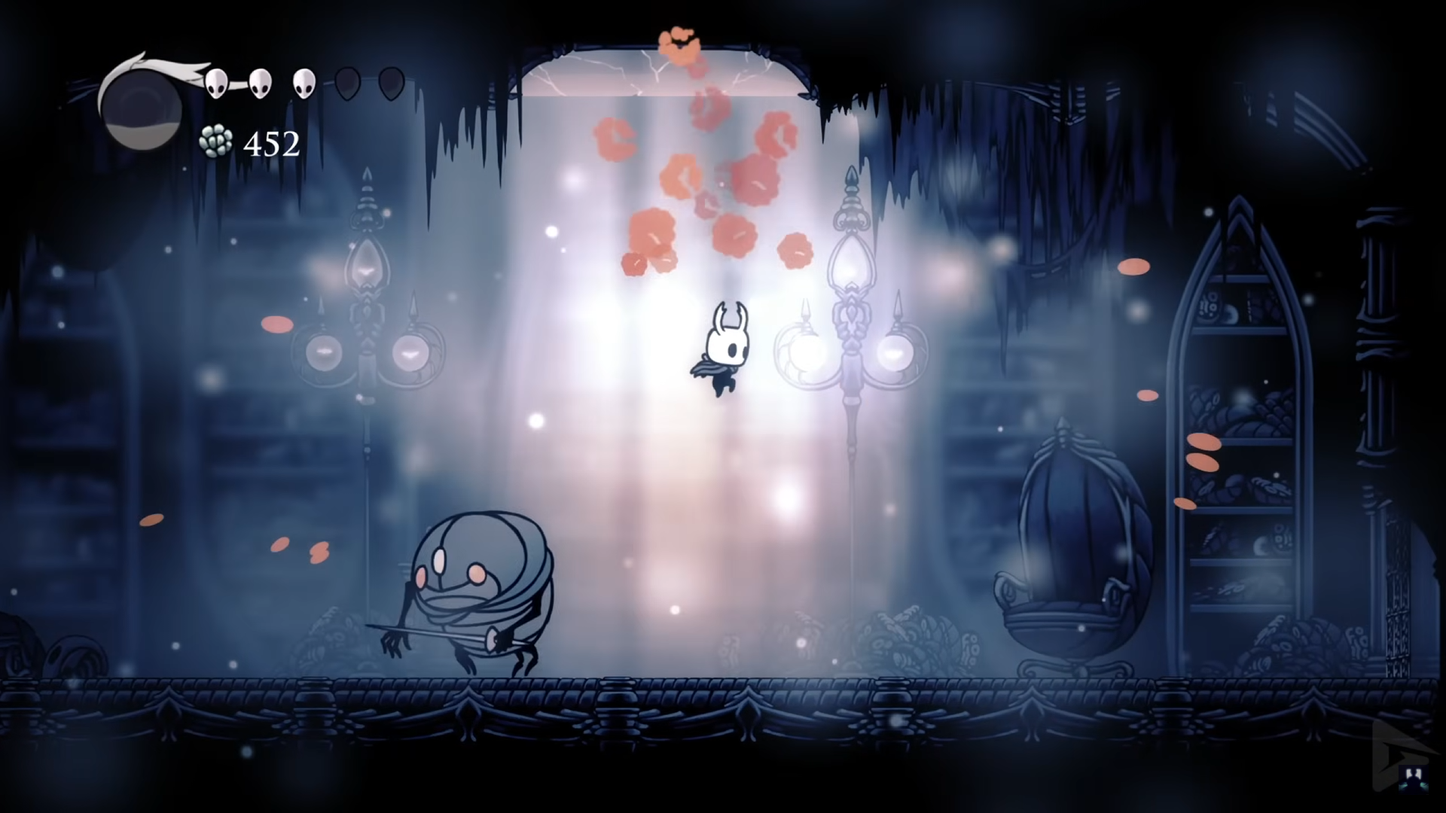HK: (691, 296, 755, 400)
